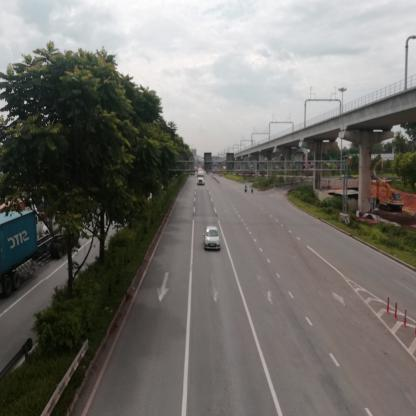car: (205, 225, 221, 254)
container: (2, 196, 75, 281), (199, 172, 206, 185)
motorbike: (246, 187, 249, 194), (252, 188, 255, 194)
